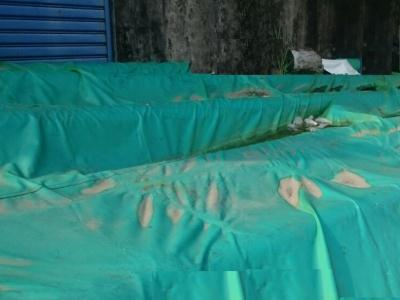plastic_bag: (1, 62, 399, 299)
